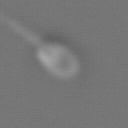normal: (1, 12, 44, 48)
